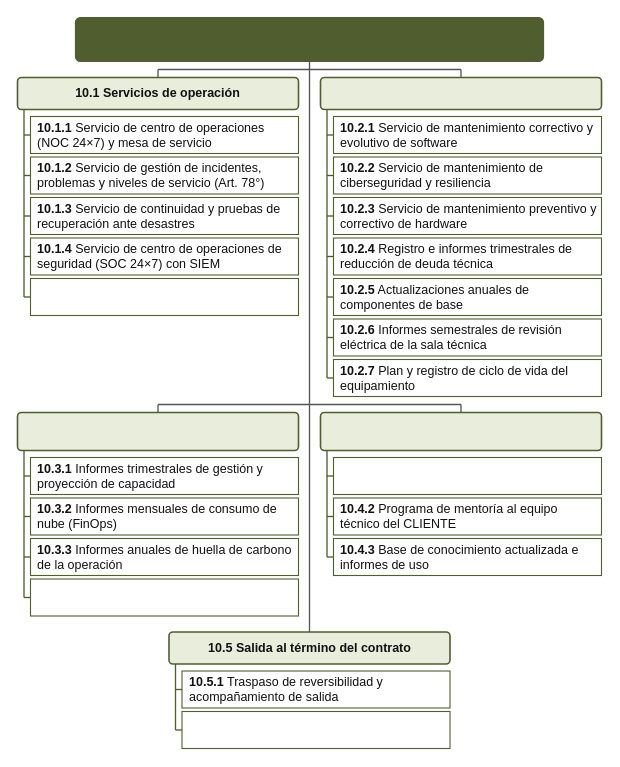
The diagram is 620 pixels wide and 767 high, and some of its shapes have lost their labels. Here are the shapes that lost their labels. From the top down, the box of each, then its label:
(74, 16, 544, 62): 10. Servicio de operación y salida
(319, 76, 602, 110): 10.2 Mantenimiento
(30, 278, 299, 316): 10.1.5 Informes mensuales de restauración de respaldos
(16, 411, 299, 451): 10.3 Informes y obligaciones periódicas
(319, 411, 602, 451): 10.4 Capacitación y transferencia en operación
(332, 456, 602, 495): 10.4.1 Jornadas anuales de actualización y capacitación de personal nuevo
(30, 578, 299, 616): 10.3.4 Actualizaciones semestrales del depósito de custodia de fuentes
(181, 710, 450, 749): 10.5.2 Certificado de devolución o eliminación de datos personales
